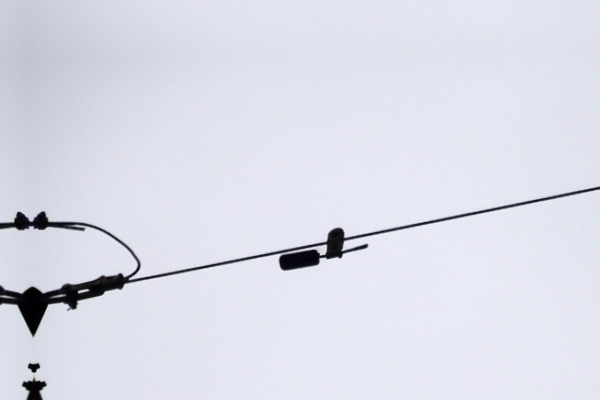damper_defect: (277, 225, 372, 272)
